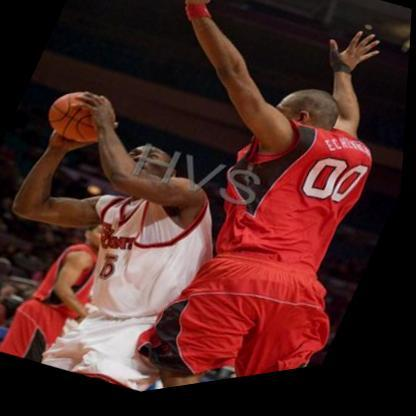basketball: (37, 77, 129, 162)
